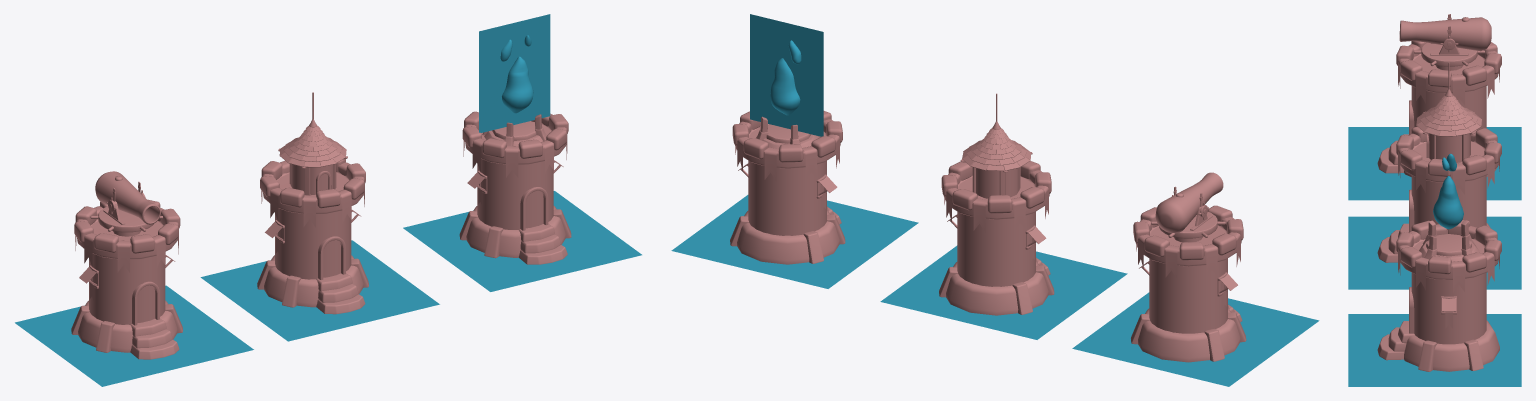
Rendered from Lp(3towers).fbx.
3 renders of one model, left to right at view 1: azimuth 30°, elevation 25°; view 2: azimuth 150°, elevation 25°; view 3: azimuth 270°, elevation 25°, orthographic. The views are drawn at different scales.
Visible parts, largest first — view 1: b23_low.002, b23_low.001, b23_low, m3_low, b2_low.002, b2_low.001, b2_low, p6_low, b1_low, b1_low.001, b1_low.002, m4_low (+19 smaller); view 2: b23_low.001, b23_low.002, b23_low, m3_low, b2_low, b2_low.001, b2_low.002, b1_low.002, b1_low.001, b1_low, p6_low, m4_low (+15 smaller); view 3: b23_low.002, b23_low.001, b23_low, b2_low.002, p6_low, b2_low, b1_low.002, b2_low.001, m4_low, b3_low.001, b3_low, b12_low.002 (+39 smaller).
Boxes of the visible parts, x1,y1,x2,y2 form: b23_low.002: (403,191,641,291); b23_low.001: (15,285,253,386); b23_low: (200,240,439,341); m3_low: (479,14,550,132); b2_low.002: (477,159,553,229); b2_low.001: (89,254,165,324); b2_low: (275,208,351,279); p6_low: (95,171,160,224); b1_low: (264,255,363,307); b1_low.001: (78,300,177,352); b1_low.002: (466,206,565,257); m4_low: (502,56,533,113); b23_low.001: (1072,292,1319,386); b23_low.002: (671,195,918,288); b23_low: (880,245,1127,339); m3_low: (750,14,823,136); b2_low: (957,211,1035,286); b2_low.001: (1149,258,1227,333); b2_low.002: (748,160,826,235); b1_low.002: (737,211,839,264); b1_low.001: (1138,308,1240,362); b1_low: (946,262,1048,315); p6_low: (1155,172,1223,233); m4_low: (770,58,800,115); b23_low.002: (1348,314,1521,386); b23_low.001: (1348,127,1521,200); b23_low: (1348,216,1521,289); b2_low.002: (1411,272,1486,344); p6_low: (1399,17,1491,51); b2_low: (1411,175,1486,227); b1_low.002: (1404,320,1499,371); b2_low.001: (1411,86,1486,130); m4_low: (1433,176,1463,229); b3_low.001: (1400,47,1498,93); b3_low: (1400,134,1498,182); b12_low.002: (1418,339,1483,371).
Bounding box in the file's own units: 7138 × 2715 × 2010.
